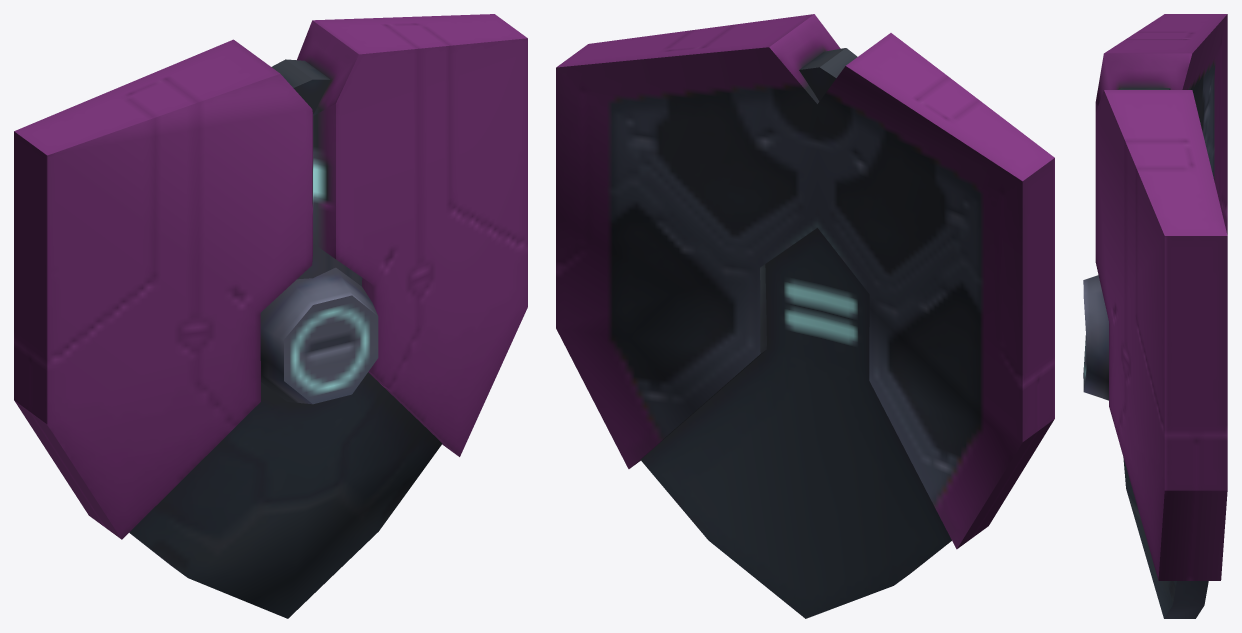
The model's file is shield.dae.
3 views of the same model, side by side, from view 1: azimuth 30°, elevation 25°; view 2: azimuth 150°, elevation 25°; view 3: azimuth 270°, elevation 25° (orthographic). The views are drawn at different scales.
Visible parts, largest first — view 1: knight.model-MeshNodes["objtheShield"]; view 2: knight.model-MeshNodes["objtheShield"]; view 3: knight.model-MeshNodes["objtheShield"].
Part boxes in pixels (x1,y1,x2,y2): knight.model-MeshNodes["objtheShield"]: [14, 14, 527, 618]; knight.model-MeshNodes["objtheShield"]: [556, 14, 1054, 618]; knight.model-MeshNodes["objtheShield"]: [1083, 14, 1227, 618].
Size of the model in its own units: 0.669 by 0.1836 by 0.769.
Materials: 1 (1 with a texture image).
